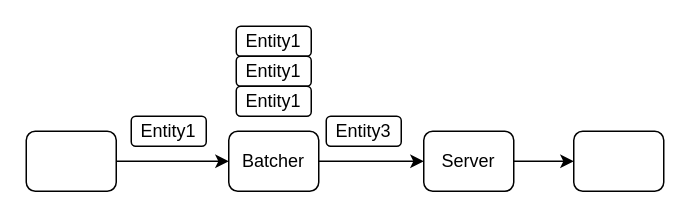
Some shapes in this 690 by 218 pixel diagram are drawn without their labels. Here are the shapes that lost their labels. From the top down, the box of each, then its label:
(25, 130, 116, 191): Source1
(572, 130, 664, 191): Sink
